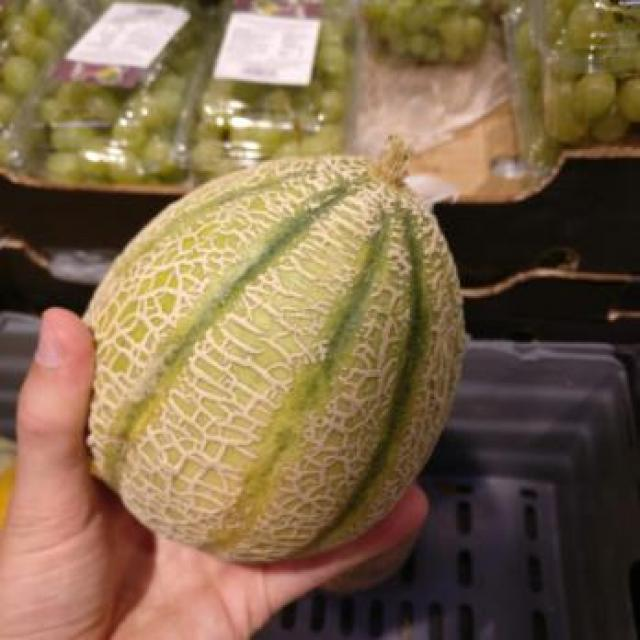Cantaloupe: (83, 156, 465, 565)
